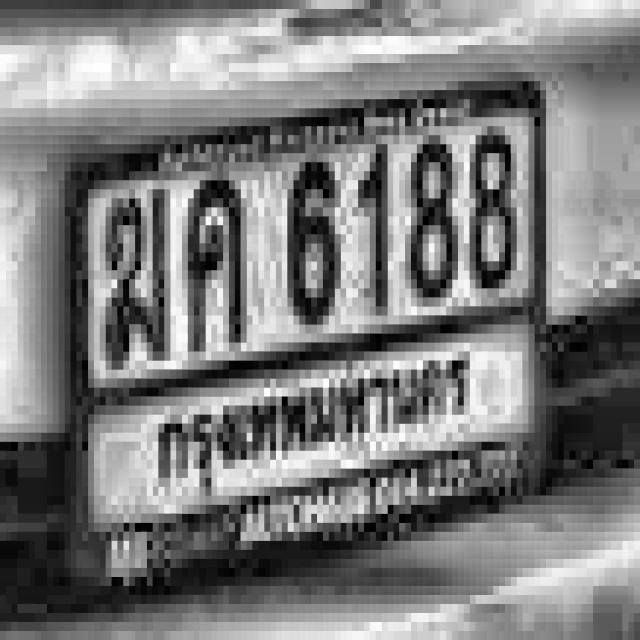license-plate: (64, 69, 552, 604)
